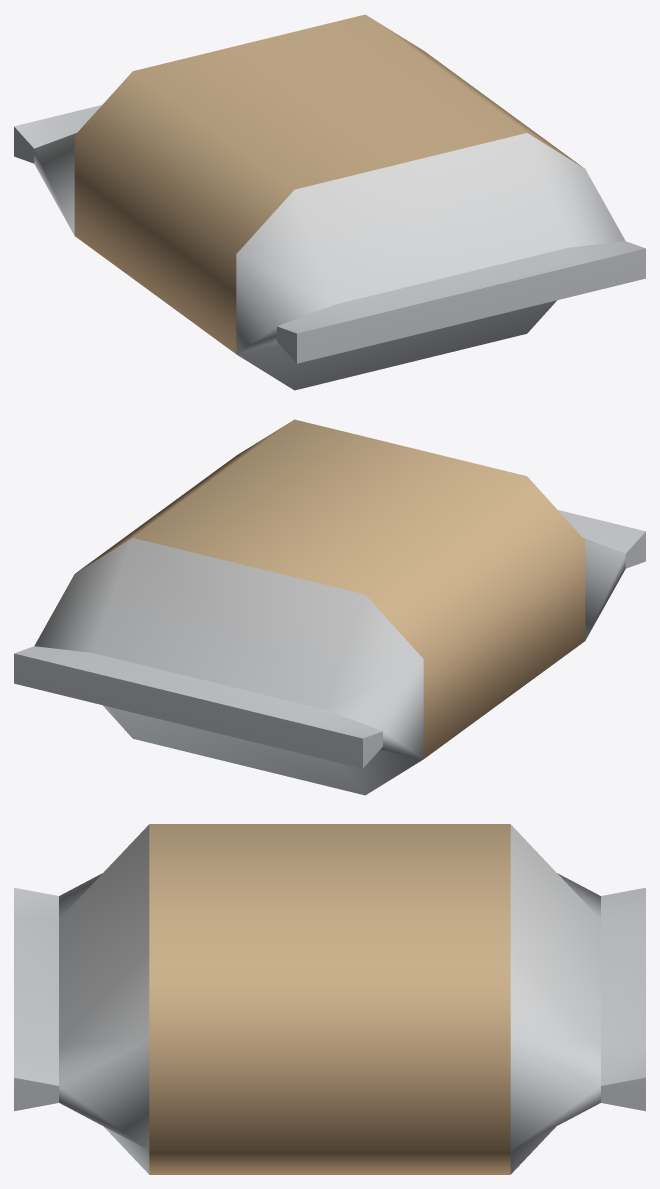
The model's file is snacks-bag.glb.
3 renders of one model, top to bottom at view 1: azimuth 30°, elevation 25°; view 2: azimuth 150°, elevation 25°; view 3: azimuth 270°, elevation 25°, orthographic. The views are drawn at different scales.
Parts seen in each view (by area): view 1: snacks-bag; view 2: snacks-bag; view 3: snacks-bag.
Boxes of the visible parts, x1,y1,x2,y2 form: snacks-bag: [14, 14, 645, 390]; snacks-bag: [14, 419, 645, 795]; snacks-bag: [14, 824, 645, 1174].
Size of the model in its own units: 0.249 by 0.137 by 0.35.
